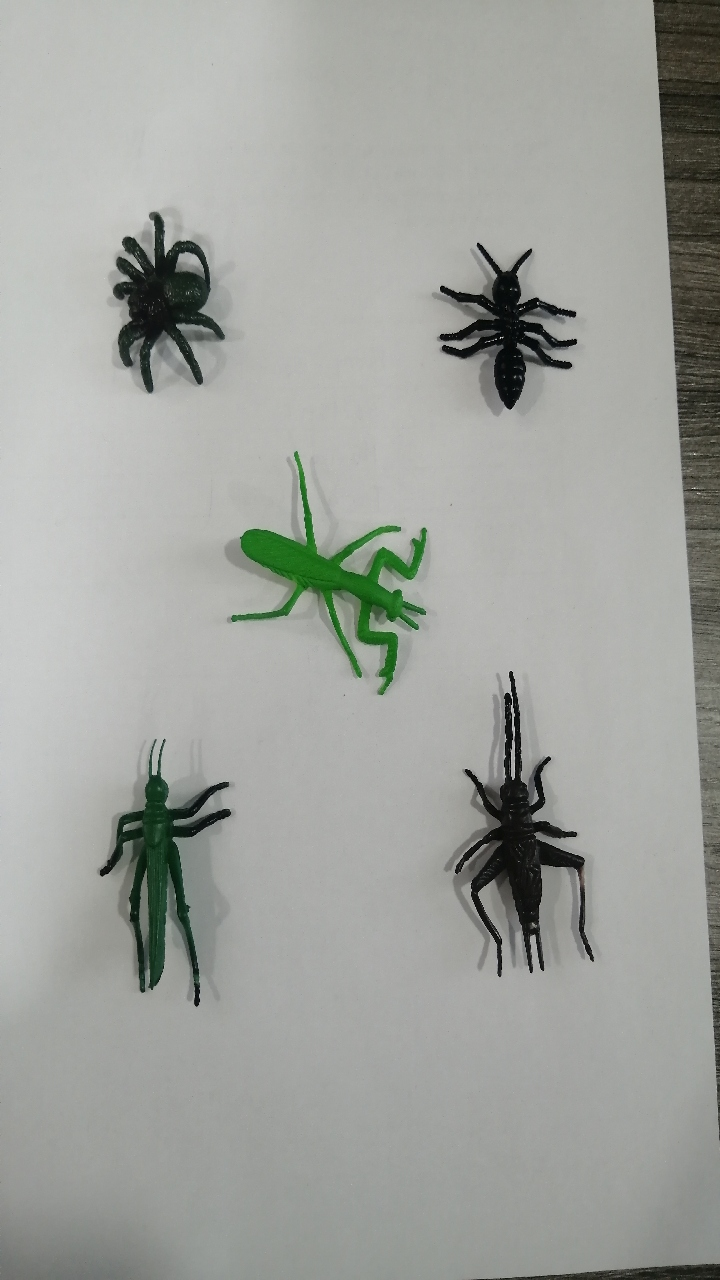intruso: (197, 434, 455, 723), (426, 666, 626, 997), (75, 728, 252, 1028), (68, 188, 266, 428), (414, 208, 594, 443)
